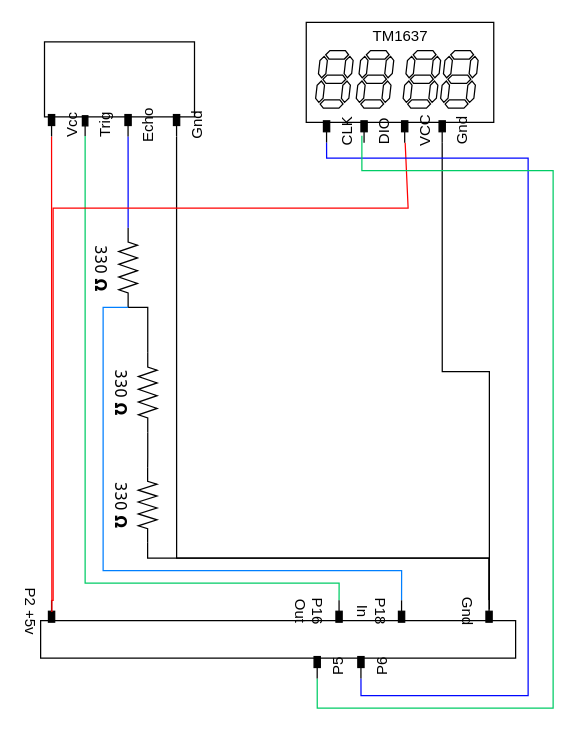
The diagram is 578 pixels wide and 731 high, and some of its shapes have lost their labels. The centre of each missing label's shape, as x and y in pixels:
"HC-SR04 Ultrasonic range finder" belongs at (x=118, y=79).
"Raspberry Pi GPIO Pins" belongs at (x=277, y=638).
